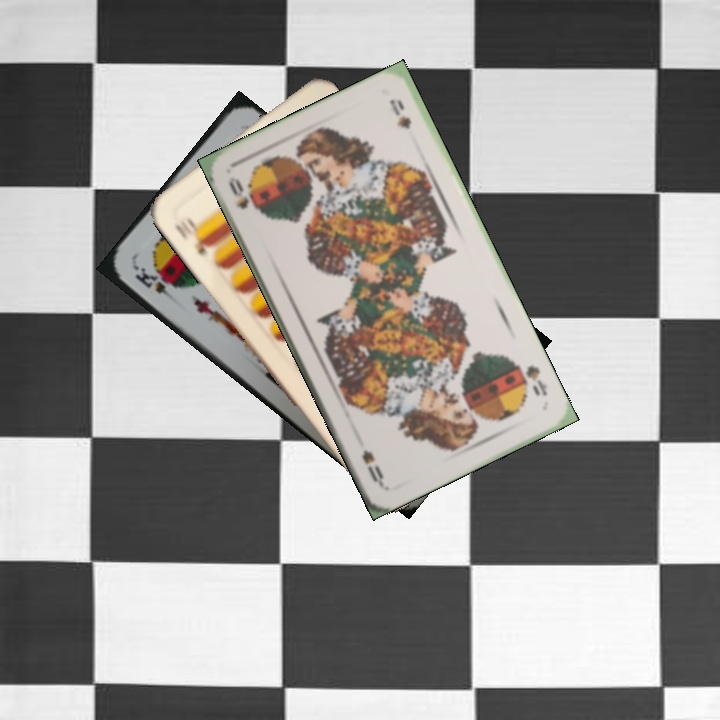E10: (171, 212, 216, 260)
SK: (130, 261, 179, 305)
SO: (513, 360, 551, 399), (224, 173, 259, 213)
